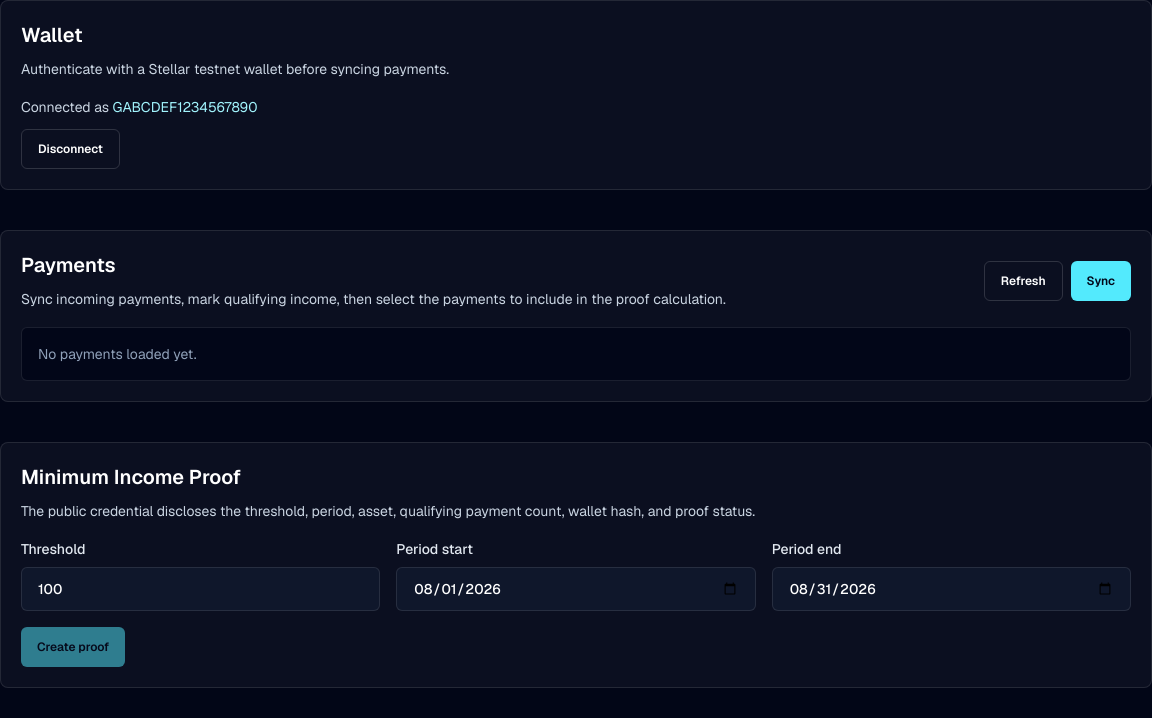
Test: CreateProofFlow submission locking › re-enables the button after a failure, and a retry sends a new request
Click the button "Refresh" at (1023, 281), box left=984, top=261, right=1063, bottom=301
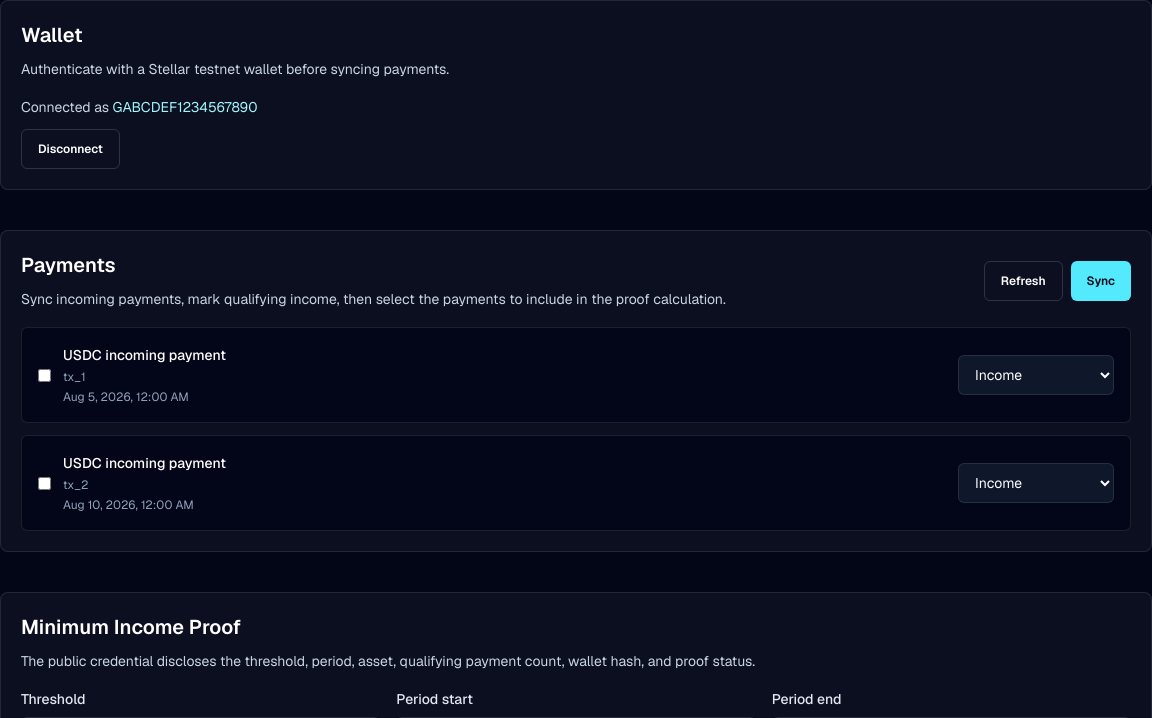
Check: the number of checkboxes named "Select payment" is 2
Click the checkbox named "Select payment" next to "tx_1" at (44, 375), box left=38, top=368, right=51, bottom=382
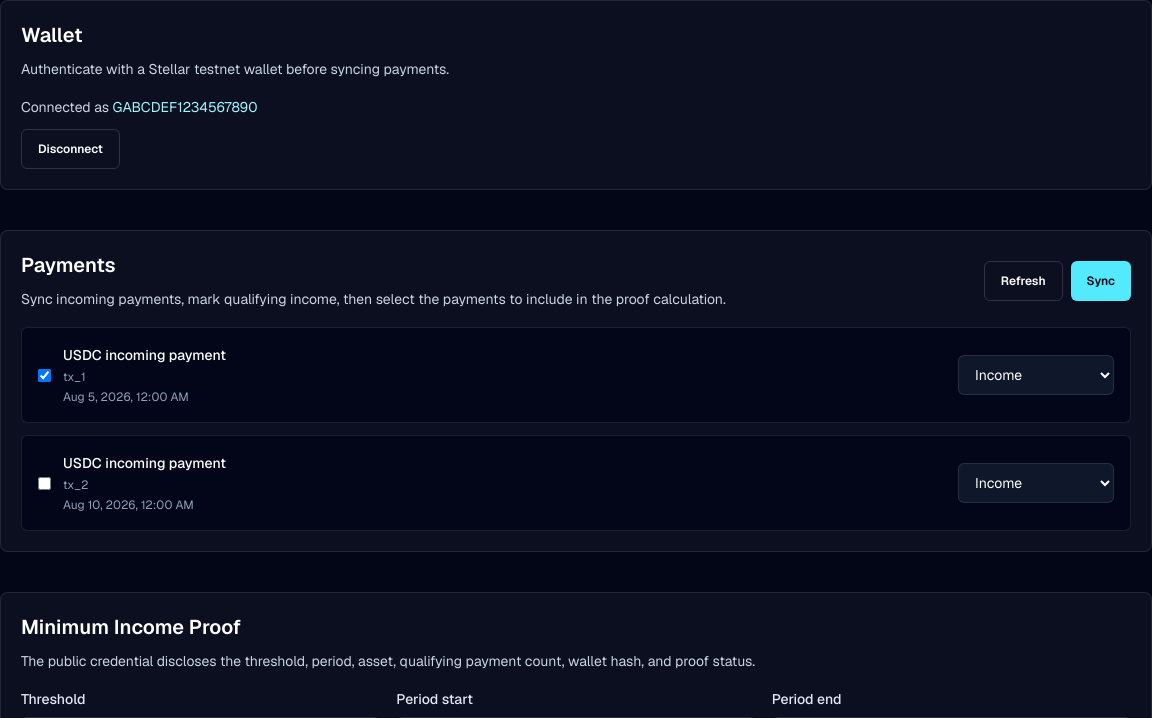
Click the checkbox named "Select payment" next to "tx_2" at (44, 483), box left=38, top=476, right=51, bottom=490
(page scrolled)
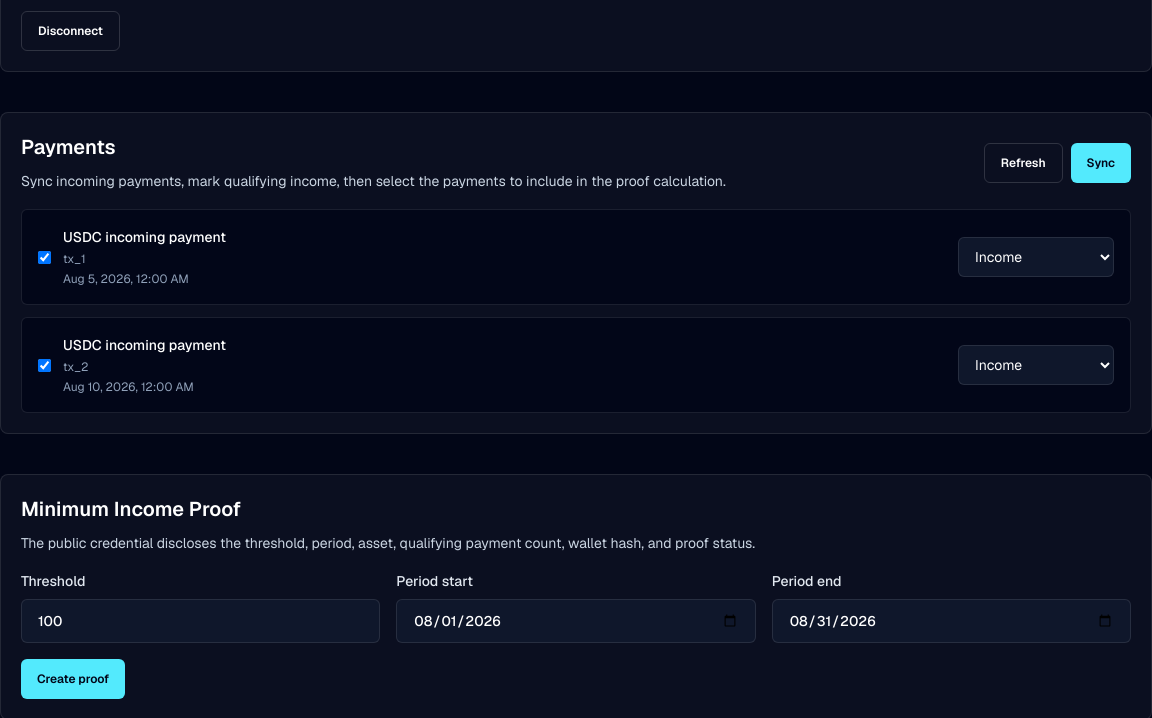
Check: the button "Create proof" is enabled
Click the button "Create proof" at (73, 679), box left=21, top=659, right=125, bottom=699
(page scrolled)
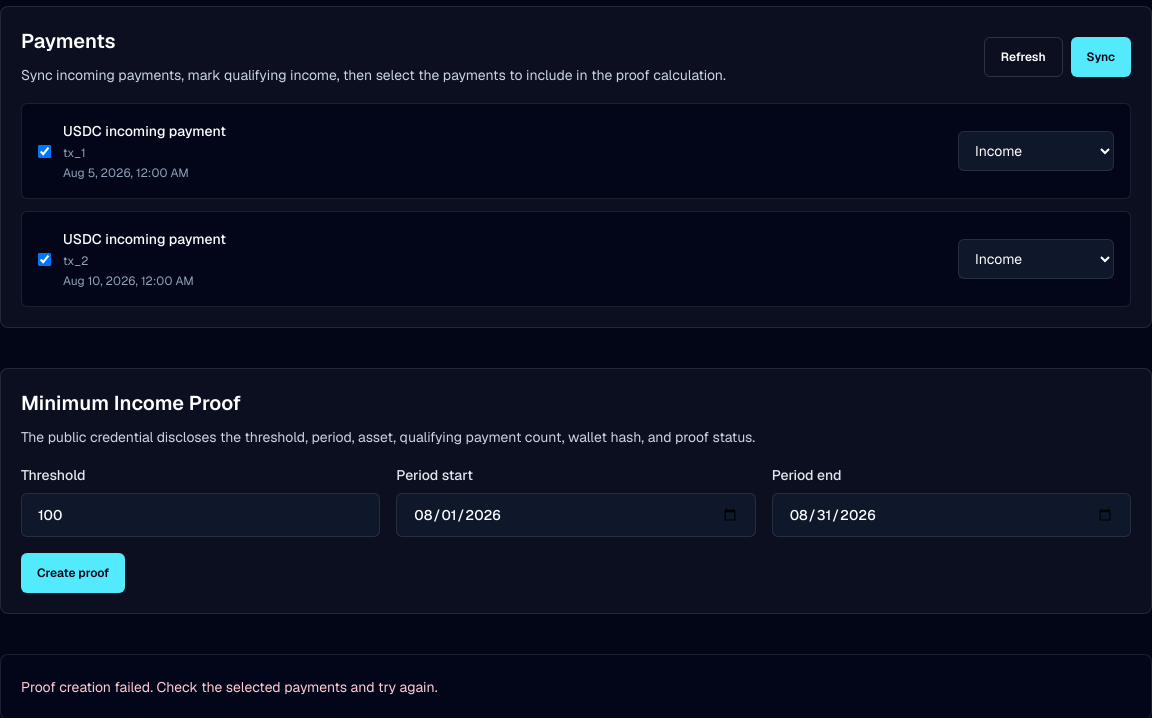
Check: the button "Create proof" is enabled
Check: the text "Proof creation failed. Check the selected payments and try again." is shown, box left=21, top=678, right=438, bottom=696
Click the button "Create proof" at (73, 573), box left=21, top=553, right=125, bottom=593
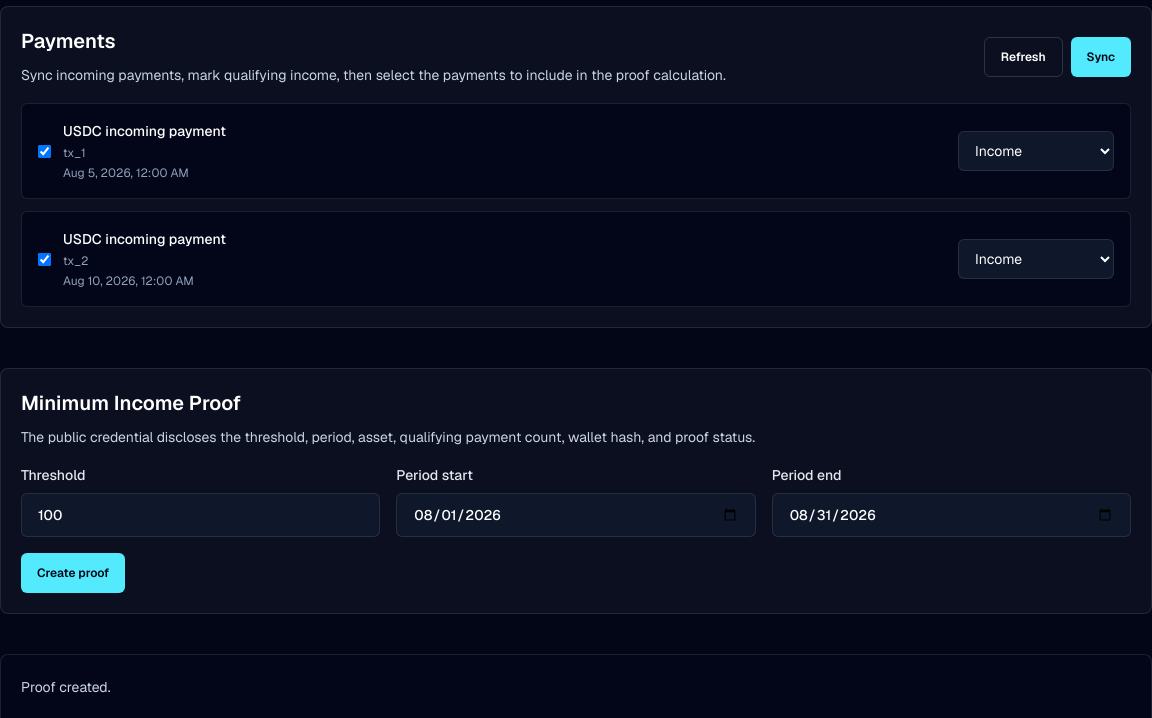
Check: the text "Proof created." is shown, box left=21, top=678, right=110, bottom=696
